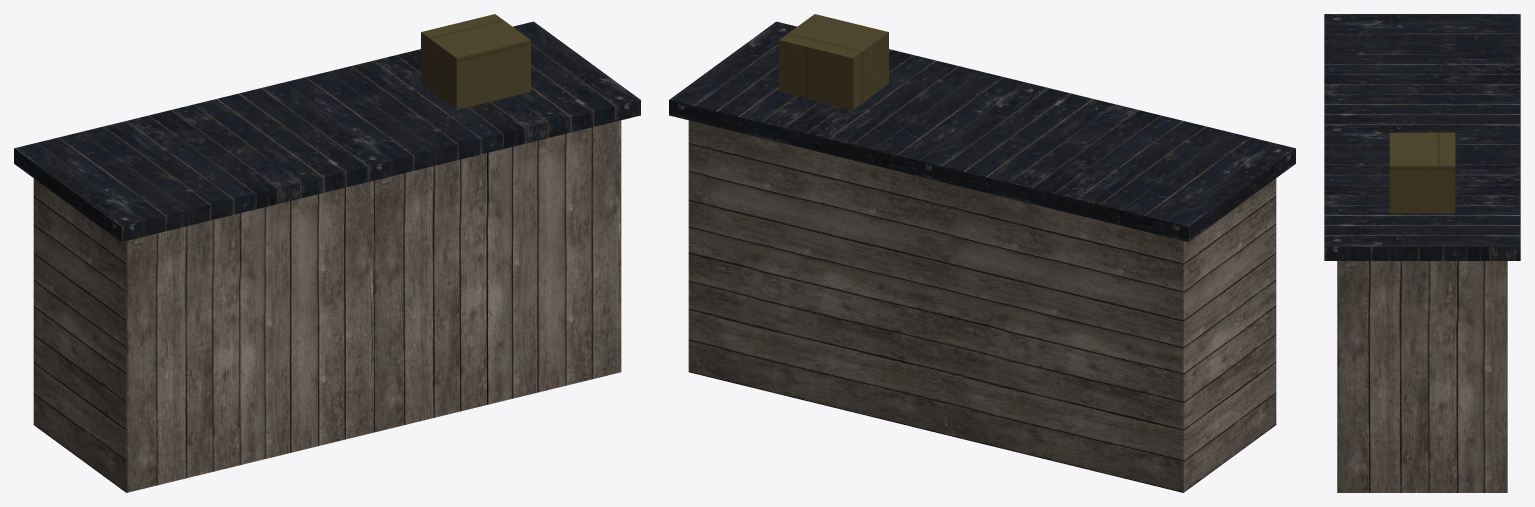
File: counter_01.glb
The picture shows the model from 3 angles, left to right: view 1: azimuth 30°, elevation 25°; view 2: azimuth 150°, elevation 25°; view 3: azimuth 270°, elevation 25°; orthographic projection. The views are drawn at different scales.
Visible parts, largest first — view 1: counter_01; view 2: counter_01; view 3: counter_01.
Boxes of the visible parts, <box> form: counter_01: <box>14,14,640,492</box>; counter_01: <box>669,14,1295,492</box>; counter_01: <box>1324,14,1520,492</box>.
Bounding box in the file's own units: 2.1 × 1.26 × 0.75.
Materials: 3 (3 with a texture image).
